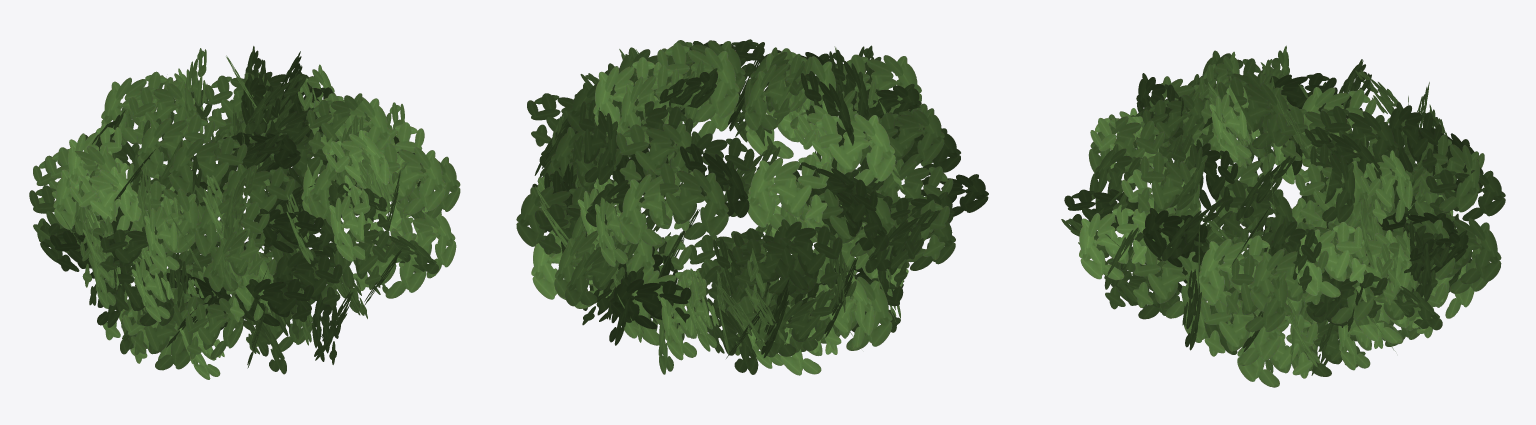
The model's file is bush.glb.
3 renders of one model, left to right at view 1: azimuth 30°, elevation 25°; view 2: azimuth 150°, elevation 25°; view 3: azimuth 270°, elevation 25°, orthographic. The views are drawn at different scales.
Visible parts, largest first — view 1: bush; view 2: bush; view 3: bush.
Part boxes in pixels (x1,y1,x2,y2): bush: (29,46,460,379); bush: (516,39,988,375); bush: (1061,45,1505,387).
Bounding box in the file's own units: 2.6 × 1.86 × 2.63.
1 material, 1 textured.
